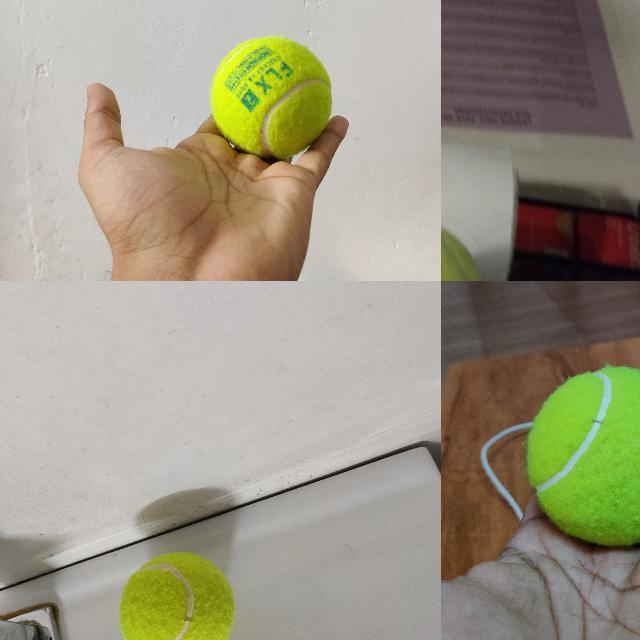tennis-ball: (526, 366, 639, 547), (210, 35, 332, 157), (116, 549, 236, 639)
